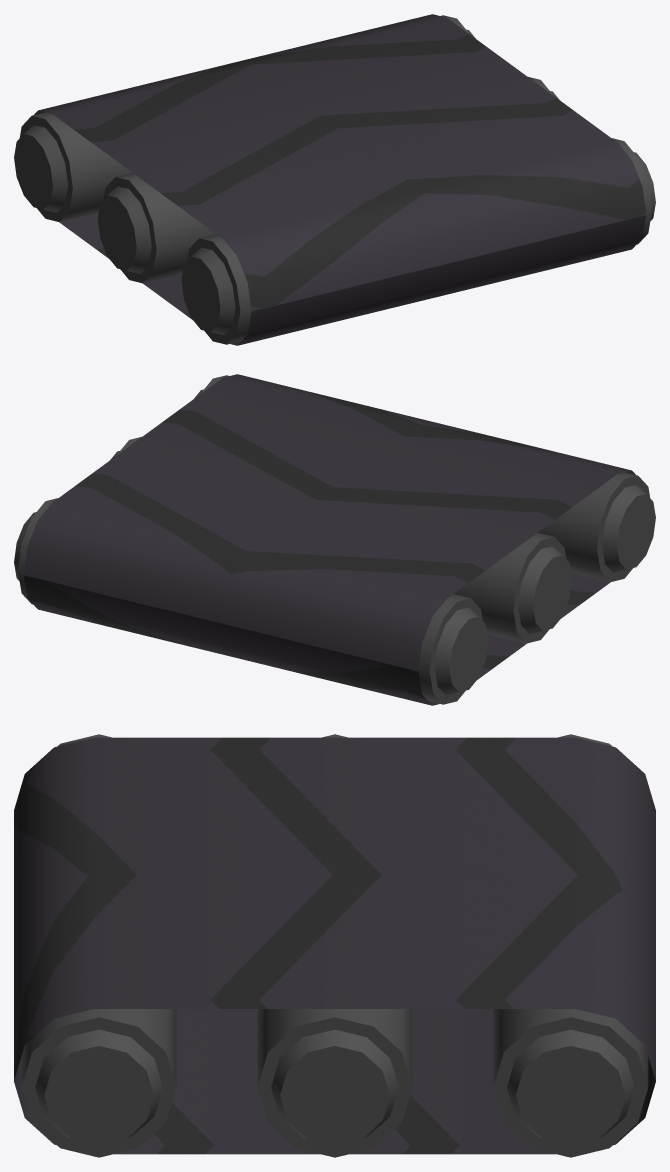
Rendered from Förderband.fbx.
The picture shows the model from 3 angles, top to bottom: view 1: azimuth 30°, elevation 25°; view 2: azimuth 150°, elevation 25°; view 3: azimuth 270°, elevation 25°; orthographic projection. The views are drawn at different scales.
Parts seen in each view (by area): view 1: Cube, Cylinder.001; view 2: Cube, Cylinder.001; view 3: Cube, Cylinder.001.
Boxes of the visible parts, left/top/right/bottom form: Cube: left=34, top=14, right=646, bottom=345; Cylinder.001: left=14, top=15, right=655, bottom=344; Cube: left=23, top=374, right=635, bottom=705; Cylinder.001: left=14, top=375, right=655, bottom=704; Cube: left=14, top=737, right=655, bottom=1154; Cylinder.001: left=21, top=734, right=648, bottom=1157.
Bounding box in the file's own units: 221 × 50 × 200.
